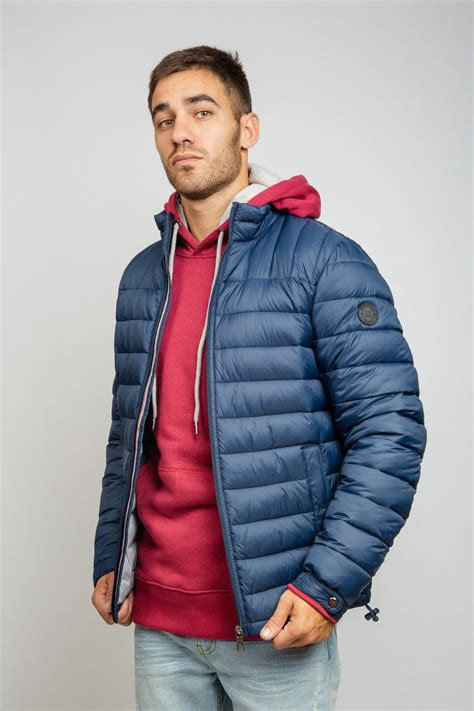nylon: (93, 210, 428, 636)
